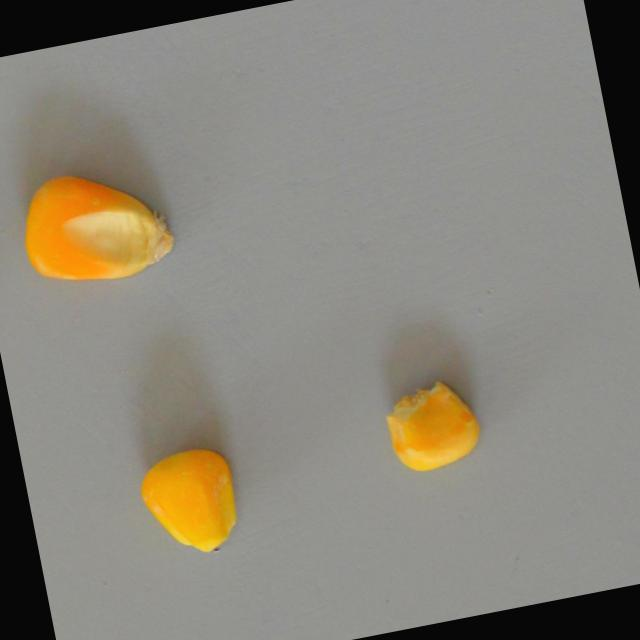entero: (9, 154, 183, 304)
pelicula: (378, 372, 486, 476)
punto_negro: (134, 439, 245, 564)
